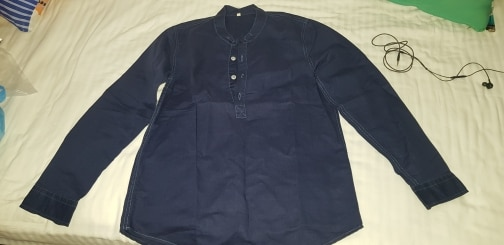shirts: (30, 3, 472, 241)
